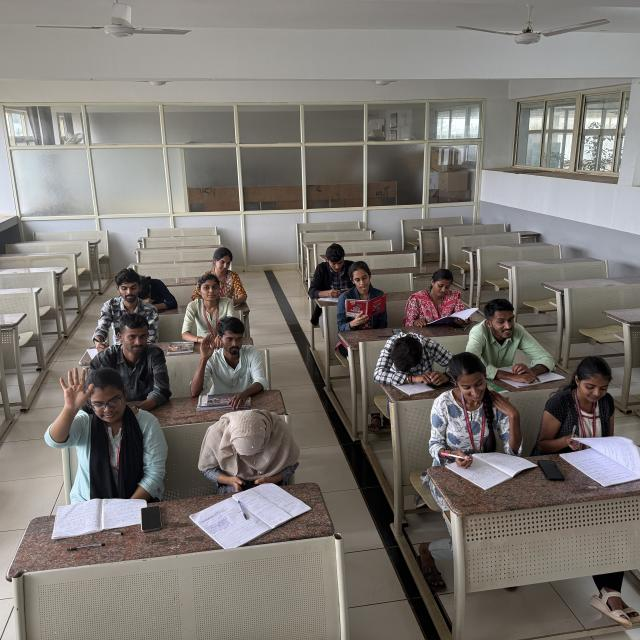Hand Rising: (41, 364, 164, 483), (194, 319, 263, 403)
Reading: (576, 349, 640, 473), (406, 265, 479, 323), (341, 258, 388, 324)
Sleeping: (374, 325, 454, 384)
Using Phone: (200, 409, 304, 492)
Writing: (440, 354, 514, 476), (87, 269, 155, 355), (312, 244, 354, 301)
